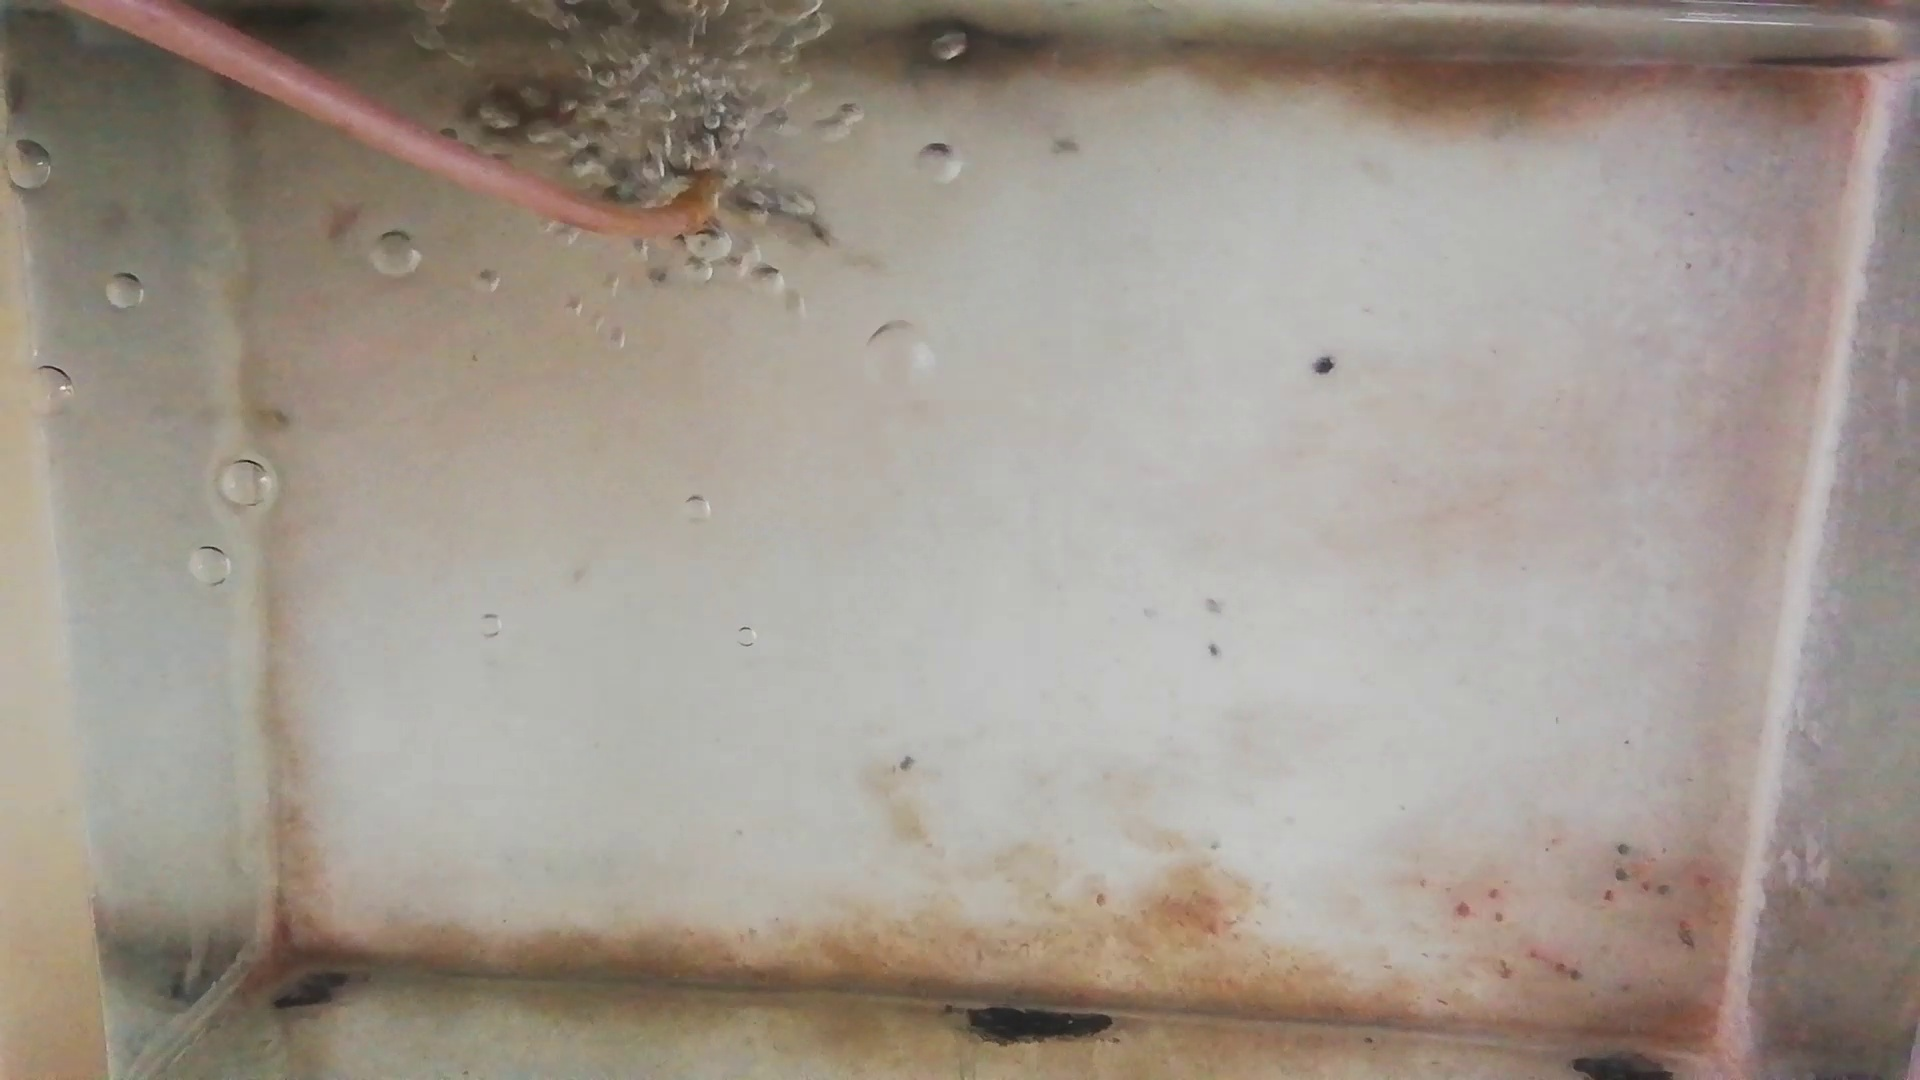fish: (611, 160, 825, 232), (469, 71, 633, 136)
